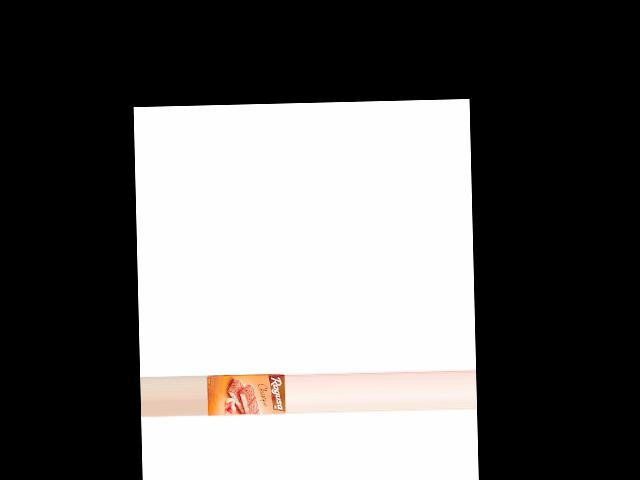chocolate: (206, 371, 285, 420)
